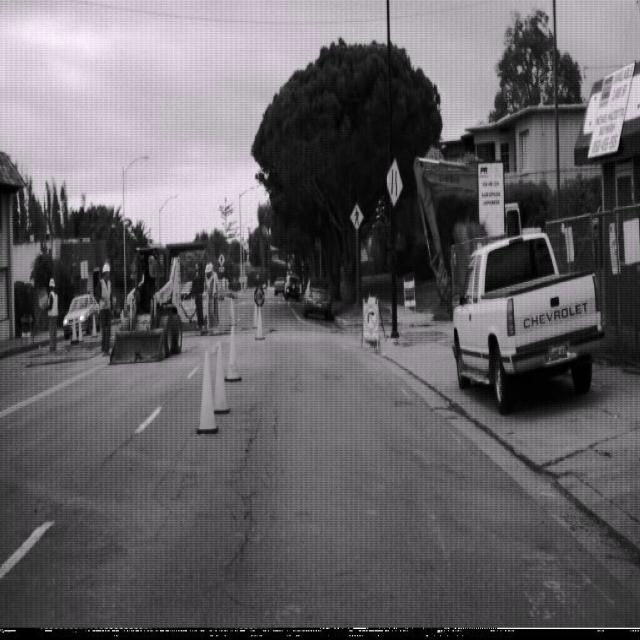pedestrianCrossing: (348, 201, 364, 232)
